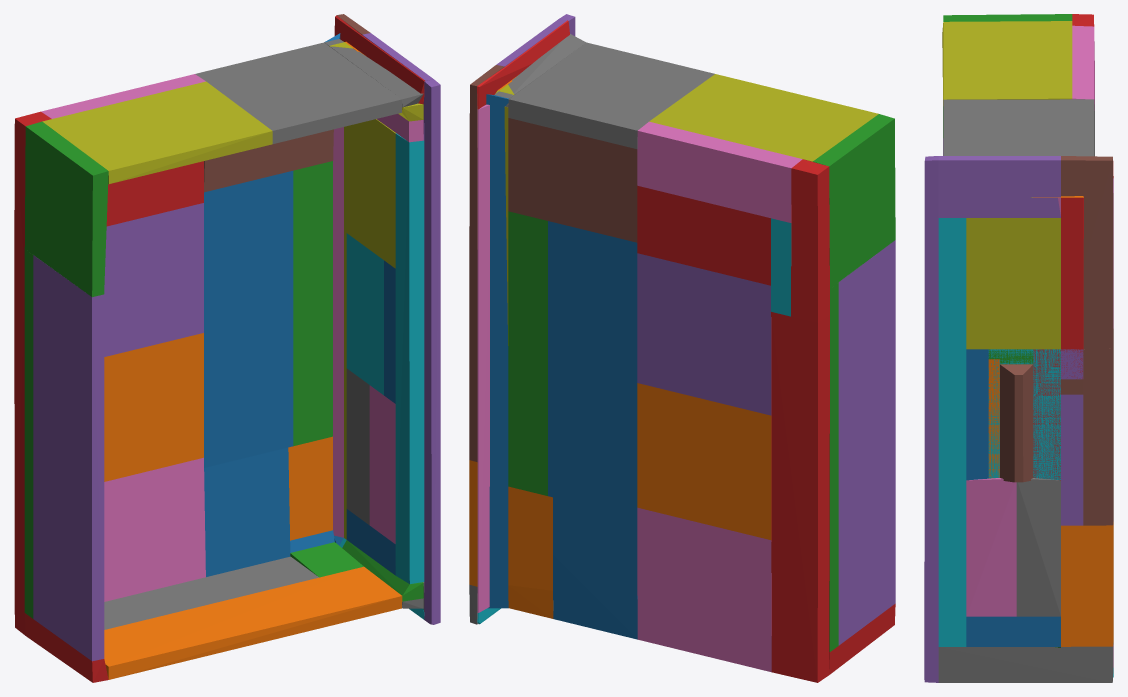
The model's file is Drawer_03_cvx.obj.
The picture shows the model from 3 angles, left to right: view 1: azimuth 30°, elevation 25°; view 2: azimuth 150°, elevation 25°; view 3: azimuth 270°, elevation 25°; orthographic projection. The views are drawn at different scales.
Visible parts, largest first — view 1: scenes/apartment_0000_coacd/output/Unknown/Kitchen_Sink/Drawer_0; view 2: scenes/apartment_0000_coacd/output/Unknown/Kitchen_Sink/Drawer_0; view 3: scenes/apartment_0000_coacd/output/Unknown/Kitchen_Sink/Drawer_0.
Boxes of the visible parts, x1,y1,x2,y2 form: scenes/apartment_0000_coacd/output/Unknown/Kitchen_Sink/Drawer_0: (14, 14, 440, 682); scenes/apartment_0000_coacd/output/Unknown/Kitchen_Sink/Drawer_0: (469, 14, 895, 682); scenes/apartment_0000_coacd/output/Unknown/Kitchen_Sink/Drawer_0: (924, 14, 1113, 682).
Bounding box in the file's own units: 0.5555 × 0.811 × 0.2653.
